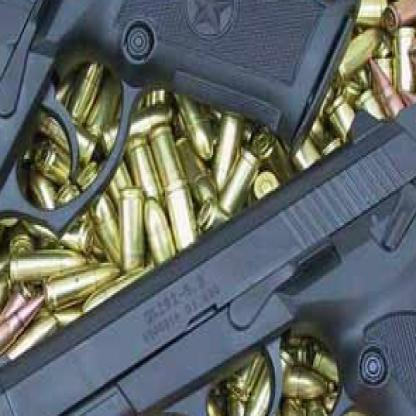gun: (0, 0, 367, 399), (0, 98, 415, 414)
